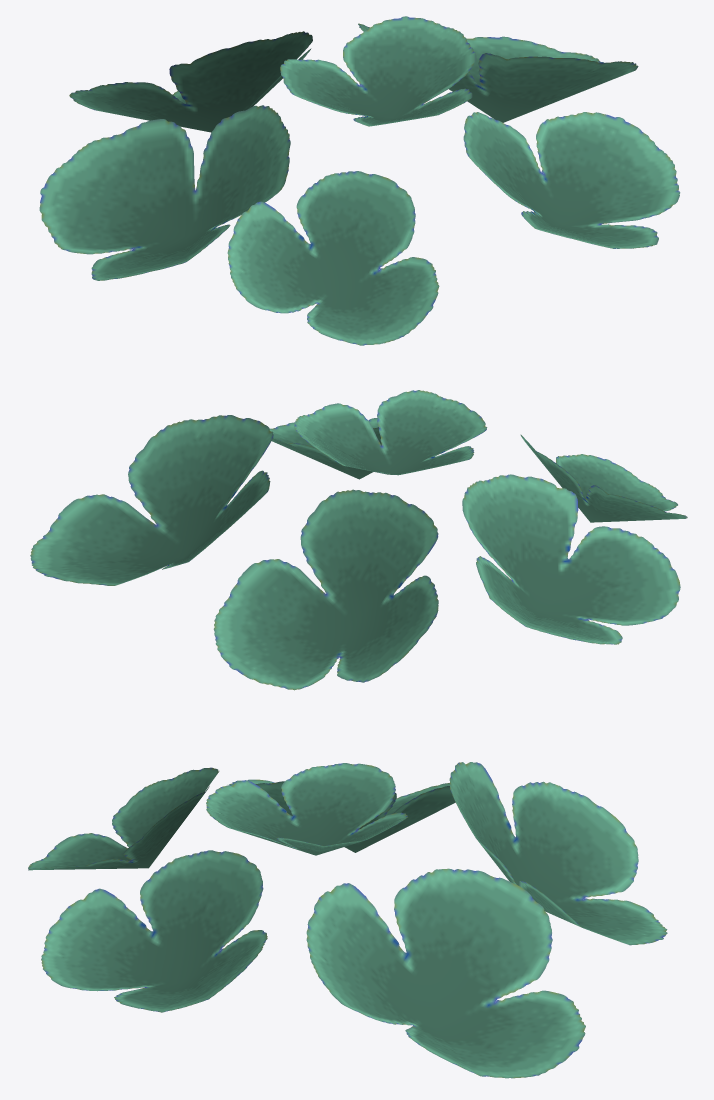
File: fairy_groundcover_gloam_1.glb
The picture shows the model from 3 angles, top to bottom: view 1: azimuth 30°, elevation 25°; view 2: azimuth 150°, elevation 25°; view 3: azimuth 270°, elevation 25°; orthographic projection. The views are drawn at different scales.
Parts seen in each view (by area): view 1: Plant_7; view 2: Plant_7; view 3: Plant_7.
Boxes of the visible parts, x1,y1,x2,y2 form: Plant_7: [39, 16, 680, 345]; Plant_7: [30, 390, 687, 690]; Plant_7: [28, 762, 667, 1078].
Bounding box in the file's own units: 1.05 × 0.2494 × 0.9621.
1 material, 1 textured.
